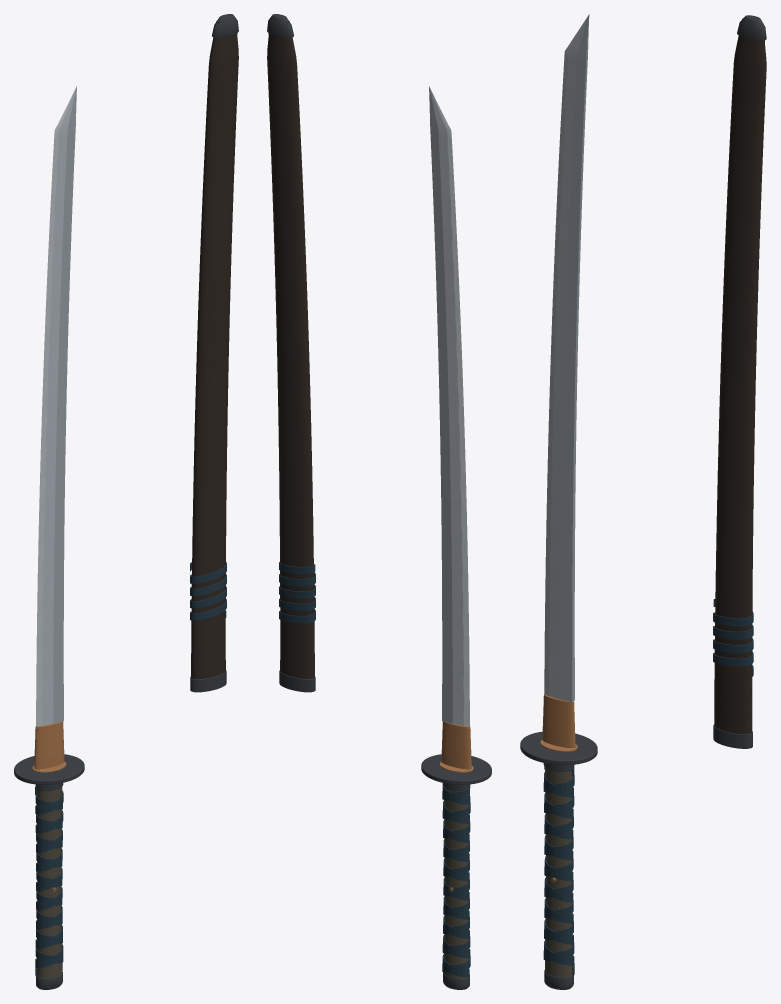
Rendered from KatanaAndSaya.glb.
The picture shows the model from 3 angles, left to right: view 1: azimuth 30°, elevation 25°; view 2: azimuth 150°, elevation 25°; view 3: azimuth 330°, elevation 25°; orthographic projection. The views are drawn at different scales.
Parts seen in each view (by area): view 1: SAYA_LacquerShell, KATANA_Blade, KATANA_GripCore, KATANA_ItoWrap_B, KATANA_ItoWrap_A, KATANA_Habaki, KATANA_Tsuba, SAYA_SageoWrap, SAYA_Koiguchi; view 2: SAYA_LacquerShell, KATANA_Blade, KATANA_ItoWrap_B, KATANA_GripCore, SAYA_SageoWrap, KATANA_ItoWrap_A, KATANA_Habaki, KATANA_Tsuba, SAYA_Koiguchi; view 3: SAYA_LacquerShell, KATANA_Blade, KATANA_ItoWrap_B, KATANA_GripCore, KATANA_ItoWrap_A, KATANA_Habaki, KATANA_Tsuba, SAYA_SageoWrap, SAYA_Koiguchi, SAYA_Kojiri.
Boxes of the visible parts, left/top/right/bottom form: SAYA_LacquerShell: left=191, top=21, right=238, bottom=678; KATANA_Blade: left=36, top=86, right=76, bottom=726; KATANA_GripCore: left=36, top=787, right=62, bottom=988; KATANA_ItoWrap_B: left=35, top=795, right=63, bottom=977; KATANA_ItoWrap_A: left=35, top=786, right=63, bottom=970; KATANA_Habaki: left=34, top=721, right=64, bottom=769; KATANA_Tsuba: left=14, top=754, right=84, bottom=784; SAYA_SageoWrap: left=190, top=562, right=226, bottom=620; SAYA_Koiguchi: left=190, top=670, right=226, bottom=692; SAYA_LacquerShell: left=267, top=21, right=314, bottom=678; KATANA_Blade: left=429, top=86, right=469, bottom=726; KATANA_ItoWrap_B: left=442, top=785, right=470, bottom=977; KATANA_GripCore: left=444, top=788, right=469, bottom=988; SAYA_SageoWrap: left=279, top=562, right=315, bottom=623; KATANA_ItoWrap_A: left=442, top=787, right=470, bottom=973; KATANA_Habaki: left=441, top=721, right=471, bottom=769; KATANA_Tsuba: left=421, top=754, right=491, bottom=784; SAYA_Koiguchi: left=279, top=670, right=315, bottom=692; SAYA_LacquerShell: left=714, top=18, right=766, bottom=734; KATANA_Blade: left=544, top=14, right=589, bottom=702; KATANA_ItoWrap_B: left=544, top=767, right=574, bottom=965; KATANA_GripCore: left=545, top=767, right=572, bottom=988; KATANA_ItoWrap_A: left=543, top=767, right=574, bottom=975; KATANA_Habaki: left=542, top=694, right=575, bottom=747; KATANA_Tsuba: left=520, top=731, right=597, bottom=765; SAYA_SageoWrap: left=713, top=599, right=753, bottom=676; SAYA_Koiguchi: left=713, top=724, right=752, bottom=748; SAYA_Kojiri: left=737, top=15, right=766, bottom=40.
Size of the model in its own units: 0.2639 by 1.06 by 0.064.
Materials: 9 (9 with a texture image).
